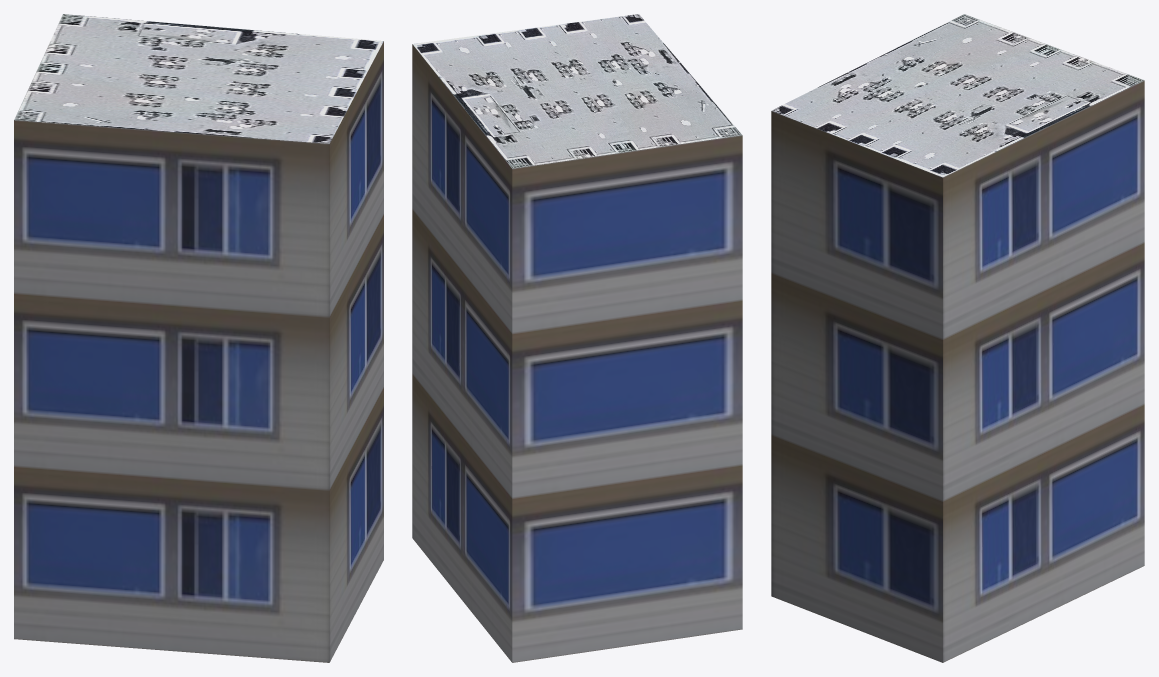
File: ResTex__2264.fbx
3 views of the same model, side by side, from view 1: azimuth 30°, elevation 25°; view 2: azimuth 150°, elevation 25°; view 3: azimuth 270°, elevation 25° (orthographic). The views are drawn at different scales.
Visible parts, largest first — view 1: CityEngineMaterial_23_m, CityEngineMaterial_4_m; view 2: CityEngineMaterial_23_m, CityEngineMaterial_4_m; view 3: CityEngineMaterial_23_m, CityEngineMaterial_4_m.
Boxes of the visible parts, bbox=[...] form: CityEngineMaterial_23_m: bbox=[14, 41, 383, 662]; CityEngineMaterial_4_m: bbox=[14, 14, 383, 143]; CityEngineMaterial_23_m: bbox=[412, 44, 742, 662]; CityEngineMaterial_4_m: bbox=[412, 14, 742, 168]; CityEngineMaterial_23_m: bbox=[771, 80, 1144, 662]; CityEngineMaterial_4_m: bbox=[771, 14, 1144, 177].
Bounding box in the file's own units: 6.5 × 9 × 6.28.
Materials: 2 (2 with a texture image).
